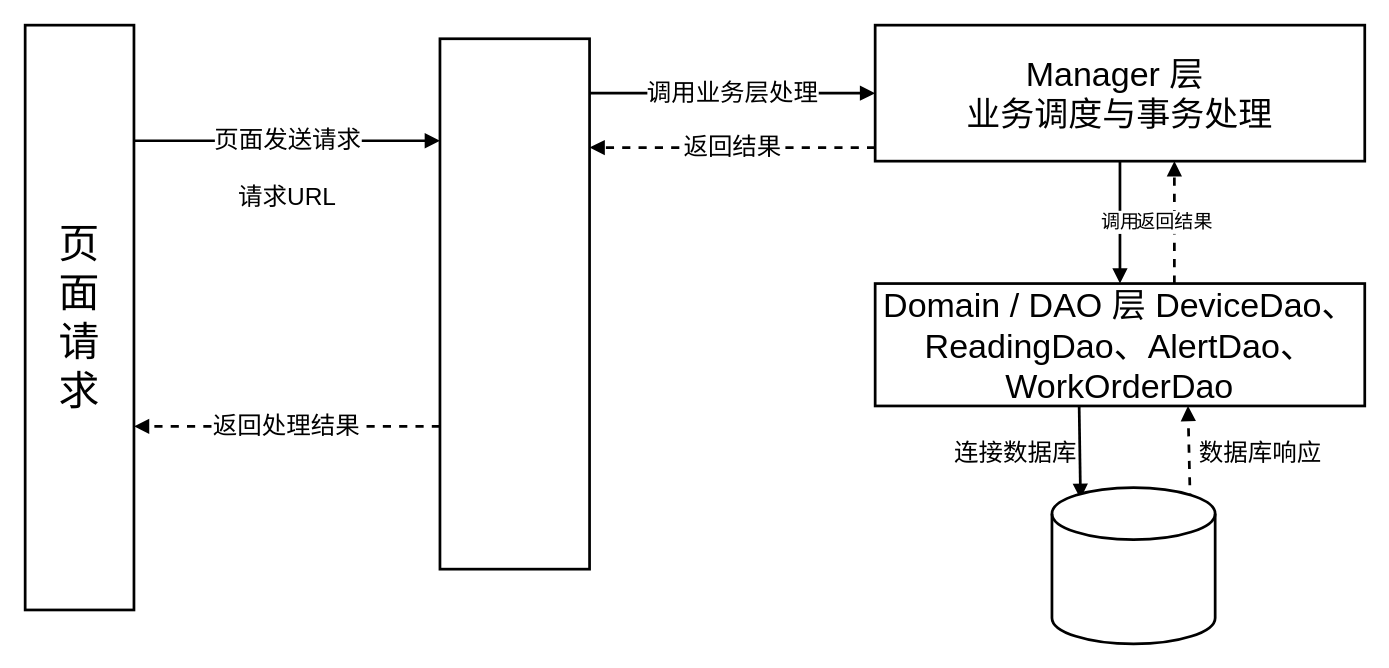
Some shapes in this 1389 by 668 pixel diagram are drawn without their labels. The shapes that lost their labels are listed below. From the top down, each one's centre as x and y in pixels, then its label:
point 514,303: 根据URL匹配请求 Action 控制器
point 1133,565: 数据库
